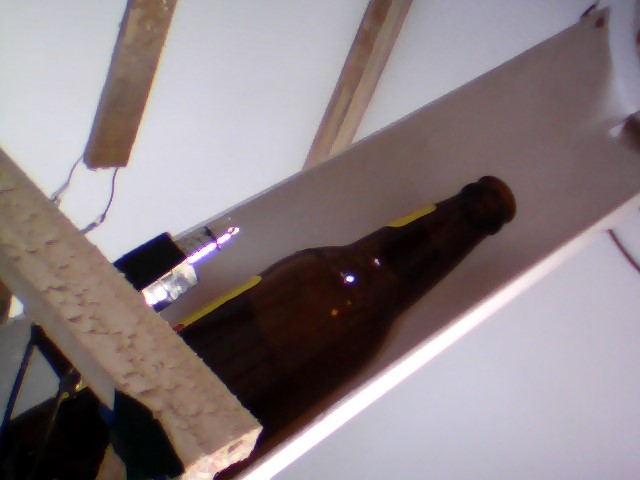vidrio: (199, 170, 525, 440)
